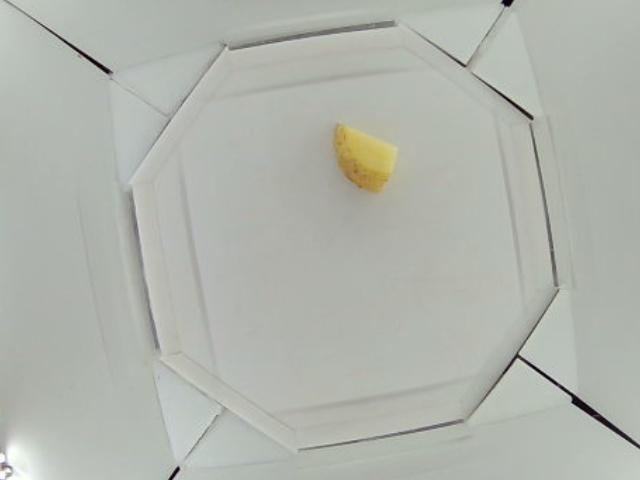Potato: (333, 121, 399, 194)
